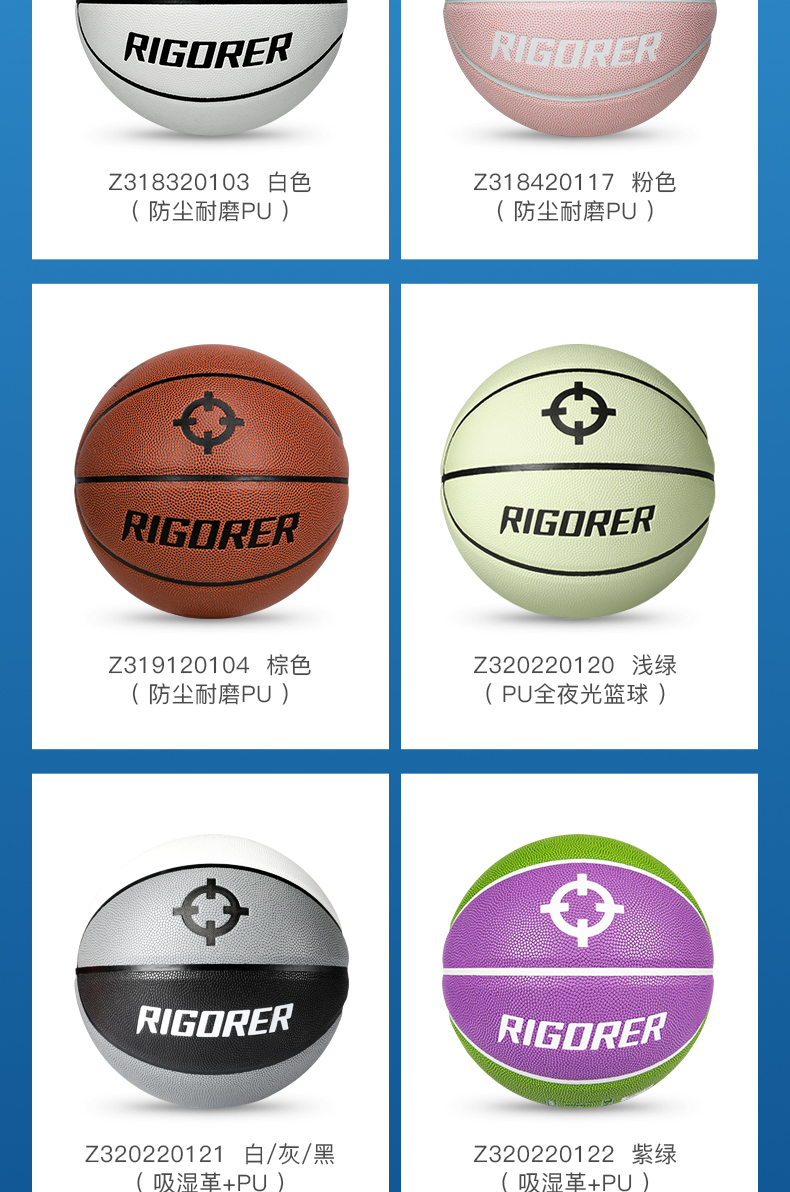ball: (440, 832, 715, 1111), (73, 343, 350, 619), (442, 343, 716, 619), (75, 835, 351, 1108), (444, 1, 717, 137), (72, 1, 349, 131)
